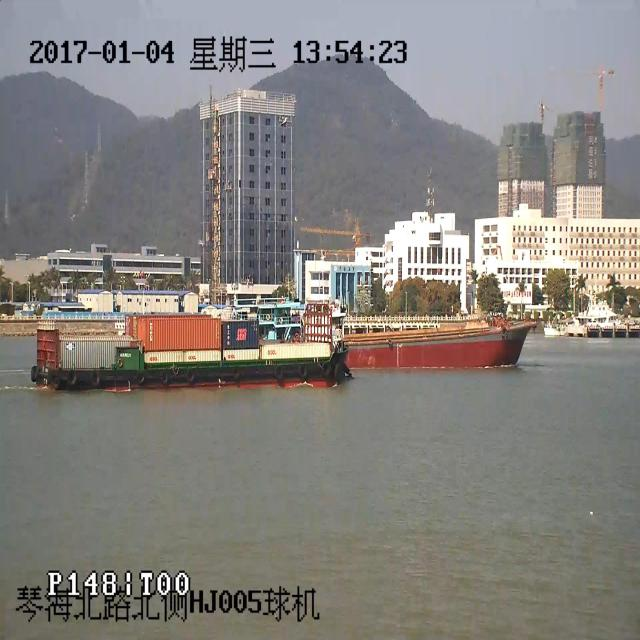cargoship: (40, 295, 352, 395), (359, 299, 535, 362)
